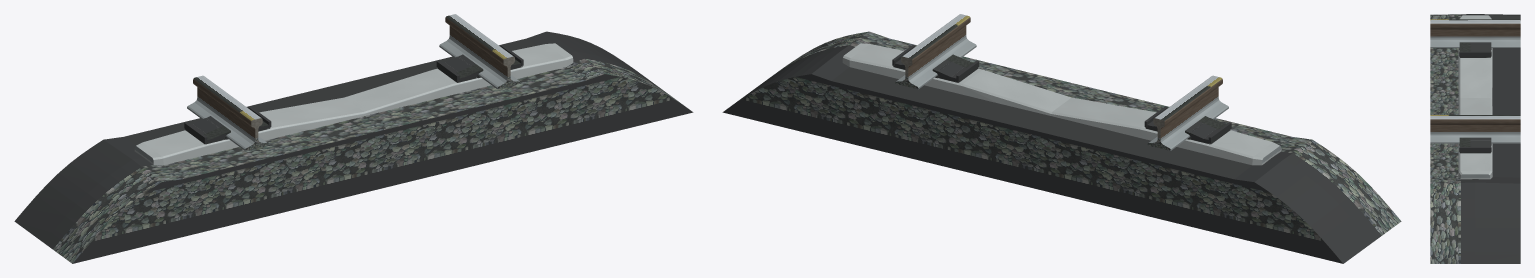
File: rail_low.obj
3 views of the same model, side by side, from view 1: azimuth 30°, elevation 25°; view 2: azimuth 150°, elevation 25°; view 3: azimuth 270°, elevation 25° (orthographic). The views are drawn at different scales.
Visible parts, largest first — view 1: ballast, sleeper, rail_left, rail_right, fastener_left, fastener_right; view 2: ballast, sleeper, rail_left, rail_right, fastener_left, fastener_right; view 3: ballast, sleeper, rail_left, rail_right, fastener_right, fastener_left.
Boxes of the visible parts, left/top/right/bottom form: ballast: left=14, top=31, right=693, bottom=263; sleeper: left=134, top=43, right=573, bottom=165; rail_left: left=187, top=75, right=266, bottom=150; rail_right: left=439, top=14, right=519, bottom=88; fastener_left: left=184, top=106, right=271, bottom=144; fastener_right: left=436, top=45, right=523, bottom=82; ballast: left=722, top=31, right=1401, bottom=263; sleeper: left=842, top=43, right=1281, bottom=165; rail_left: left=1149, top=75, right=1228, bottom=150; rail_right: left=896, top=14, right=976, bottom=88; fastener_left: left=1144, top=106, right=1231, bottom=144; fastener_right: left=892, top=45, right=979, bottom=82; ballast: left=1430, top=14, right=1520, bottom=263; sleeper: left=1458, top=15, right=1492, bottom=179; rail_left: left=1430, top=19, right=1520, bottom=47; rail_right: left=1430, top=115, right=1520, bottom=143; fastener_right: left=1459, top=137, right=1491, bottom=153; fastener_left: left=1459, top=42, right=1491, bottom=57.
Bounding box in the file's own units: 3.7 × 0.5683 × 0.6.
